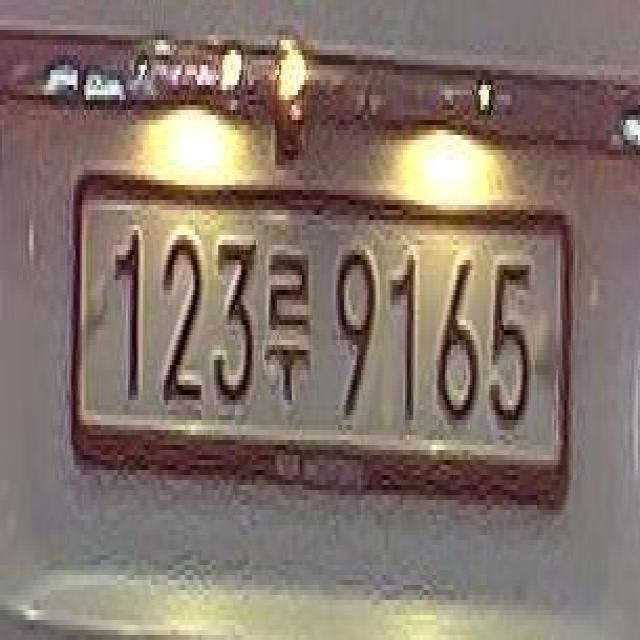illegal_plate: (71, 161, 568, 516)
